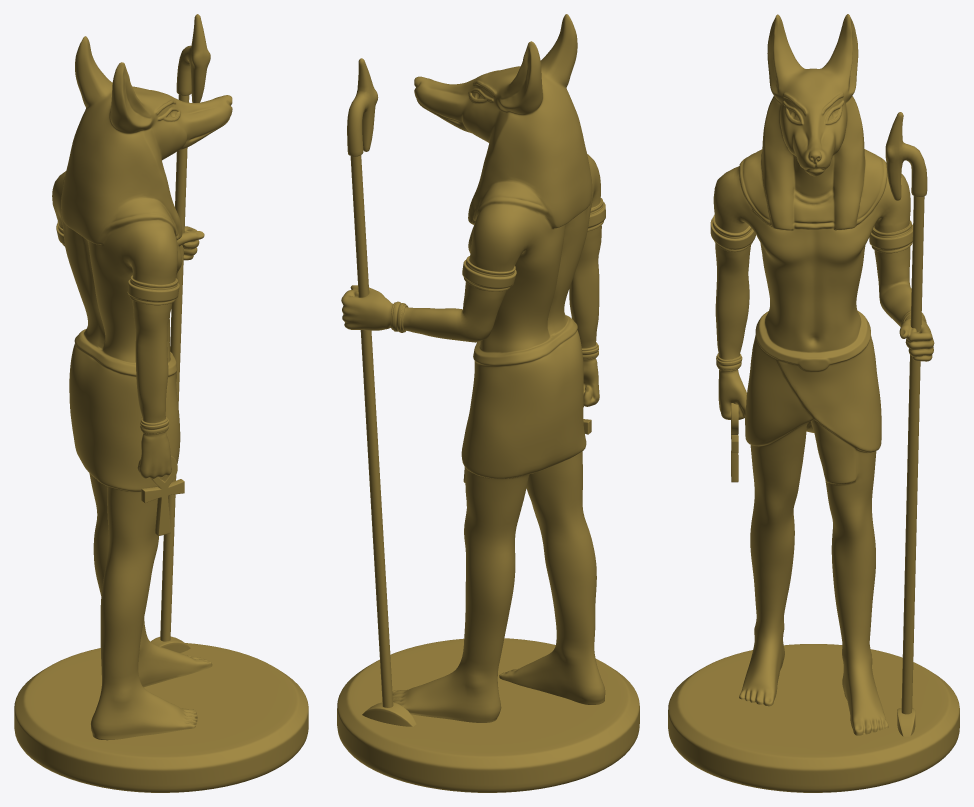
File: Anubis.glb
The picture shows the model from 3 angles, left to right: view 1: azimuth 30°, elevation 25°; view 2: azimuth 150°, elevation 25°; view 3: azimuth 270°, elevation 25°; orthographic projection. The views are drawn at different scales.
Visible parts, largest first — view 1: 16789_Anubis_v1_NEW; view 2: 16789_Anubis_v1_NEW; view 3: 16789_Anubis_v1_NEW.
Boxes of the visible parts, x1,y1,x2,y2 form: 16789_Anubis_v1_NEW: (14,14,308,792); 16789_Anubis_v1_NEW: (337,14,639,792); 16789_Anubis_v1_NEW: (668,14,959,792).
Bounding box in the file's own units: 3.99 × 10.45 × 4.
